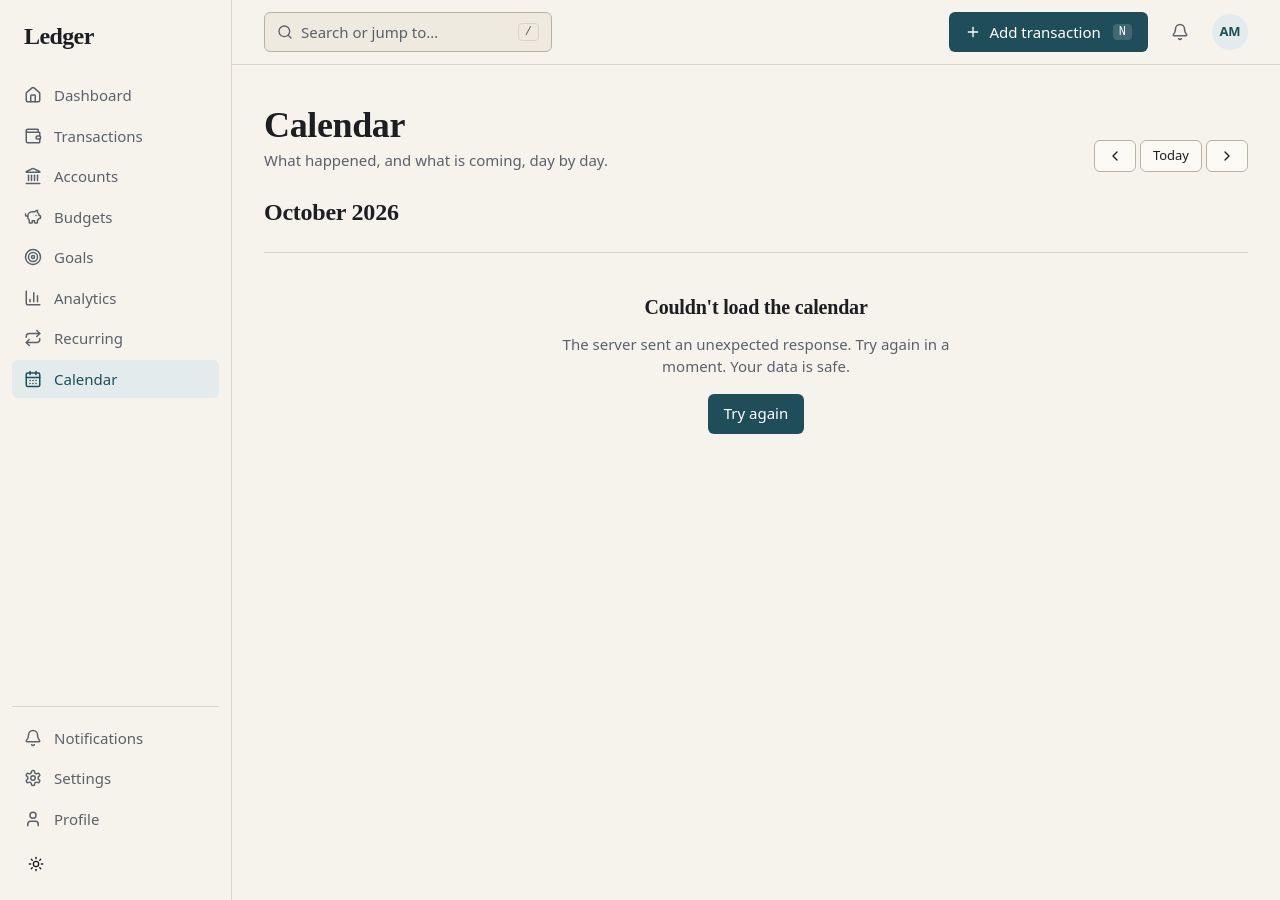
calendar page › offers a retry when loading fails
Expected: the heading "Couldn't load the calendar" is shown, [644, 292, 868, 320]
Click the button "Try again" at x=756, y=414, box [708, 394, 804, 434]
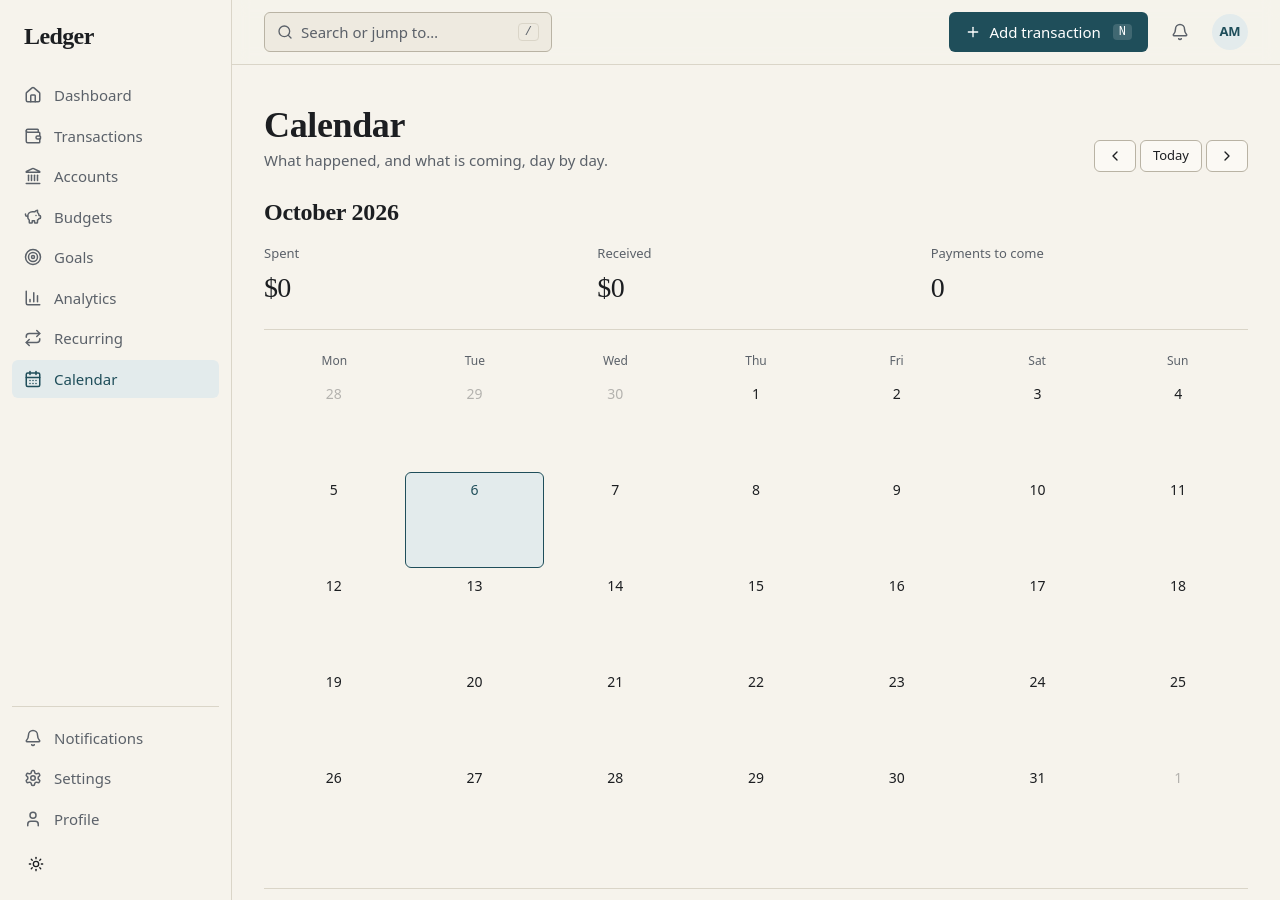
Expected: the table named "October 2026 calendar" is shown, [264, 346, 1248, 856]
